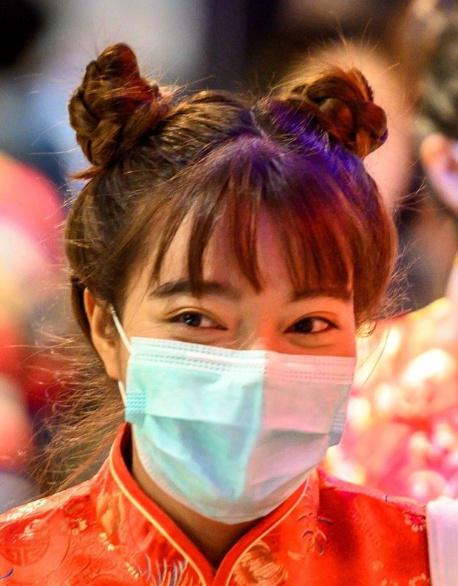OK: (123, 264, 357, 527)
